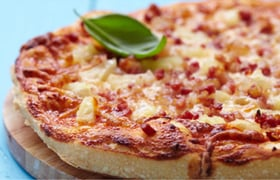sandwich: (4, 3, 280, 171)
